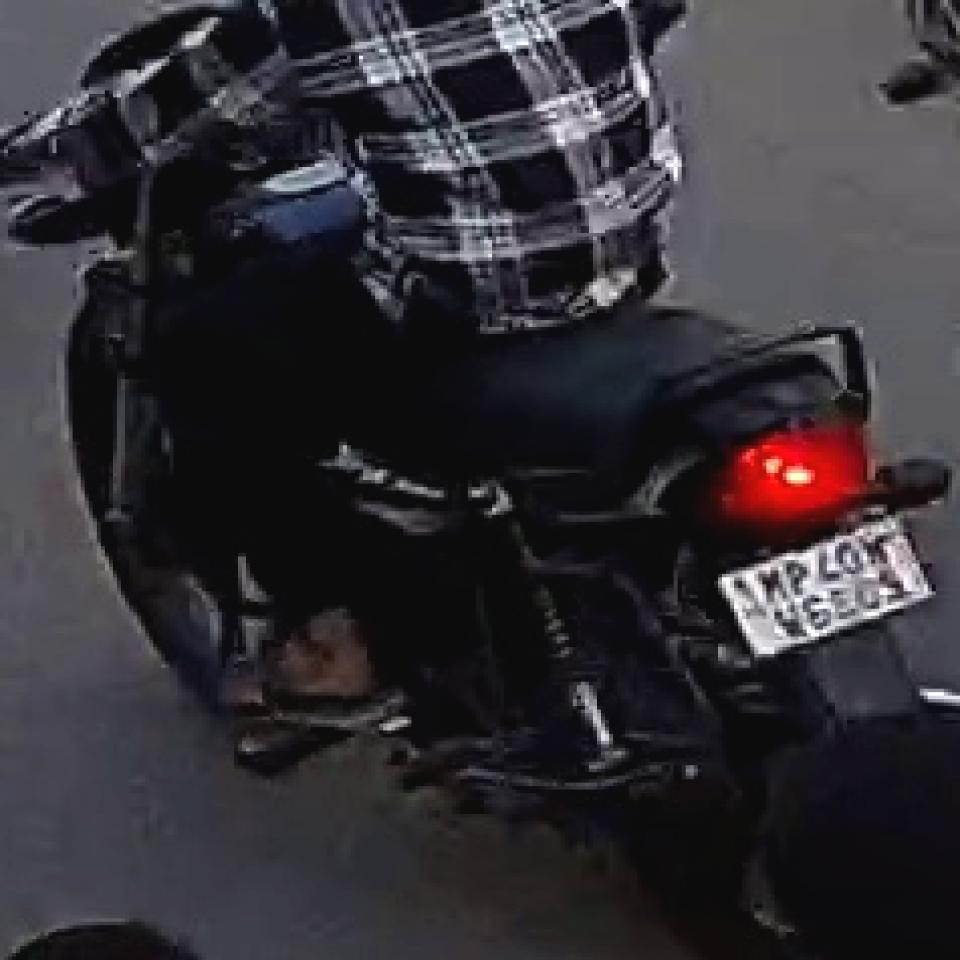tail_light: (716, 426, 877, 528)
